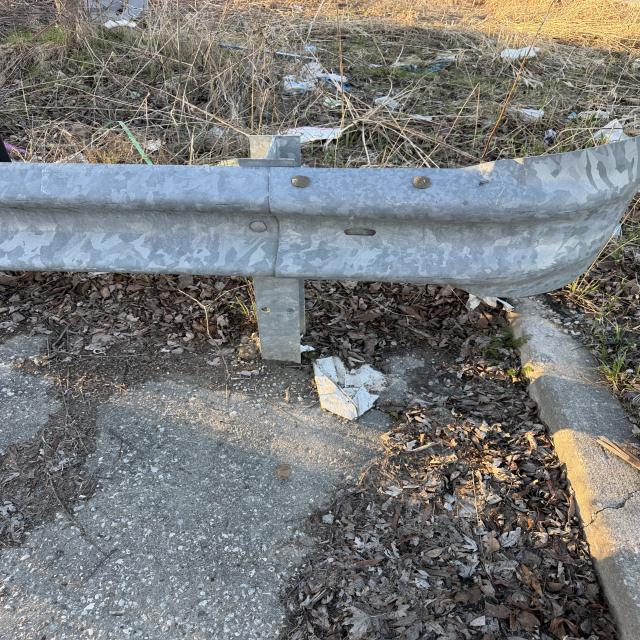Guard rail: (14, 152, 623, 280)
